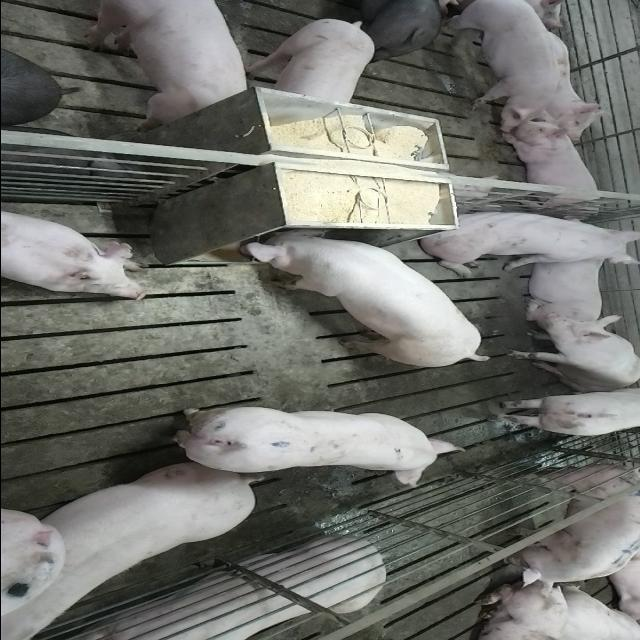Feeding: (236, 222, 492, 364)
Sitting: (412, 206, 636, 272), (504, 314, 640, 392)
Standing: (166, 404, 472, 482), (75, 1, 253, 124), (435, 2, 563, 132), (509, 460, 640, 586), (240, 18, 374, 106), (484, 385, 638, 438), (334, 0, 449, 57)
Sternal_lying: (66, 538, 388, 640), (0, 206, 150, 302), (498, 120, 610, 216), (519, 252, 611, 326), (504, 0, 580, 31)
